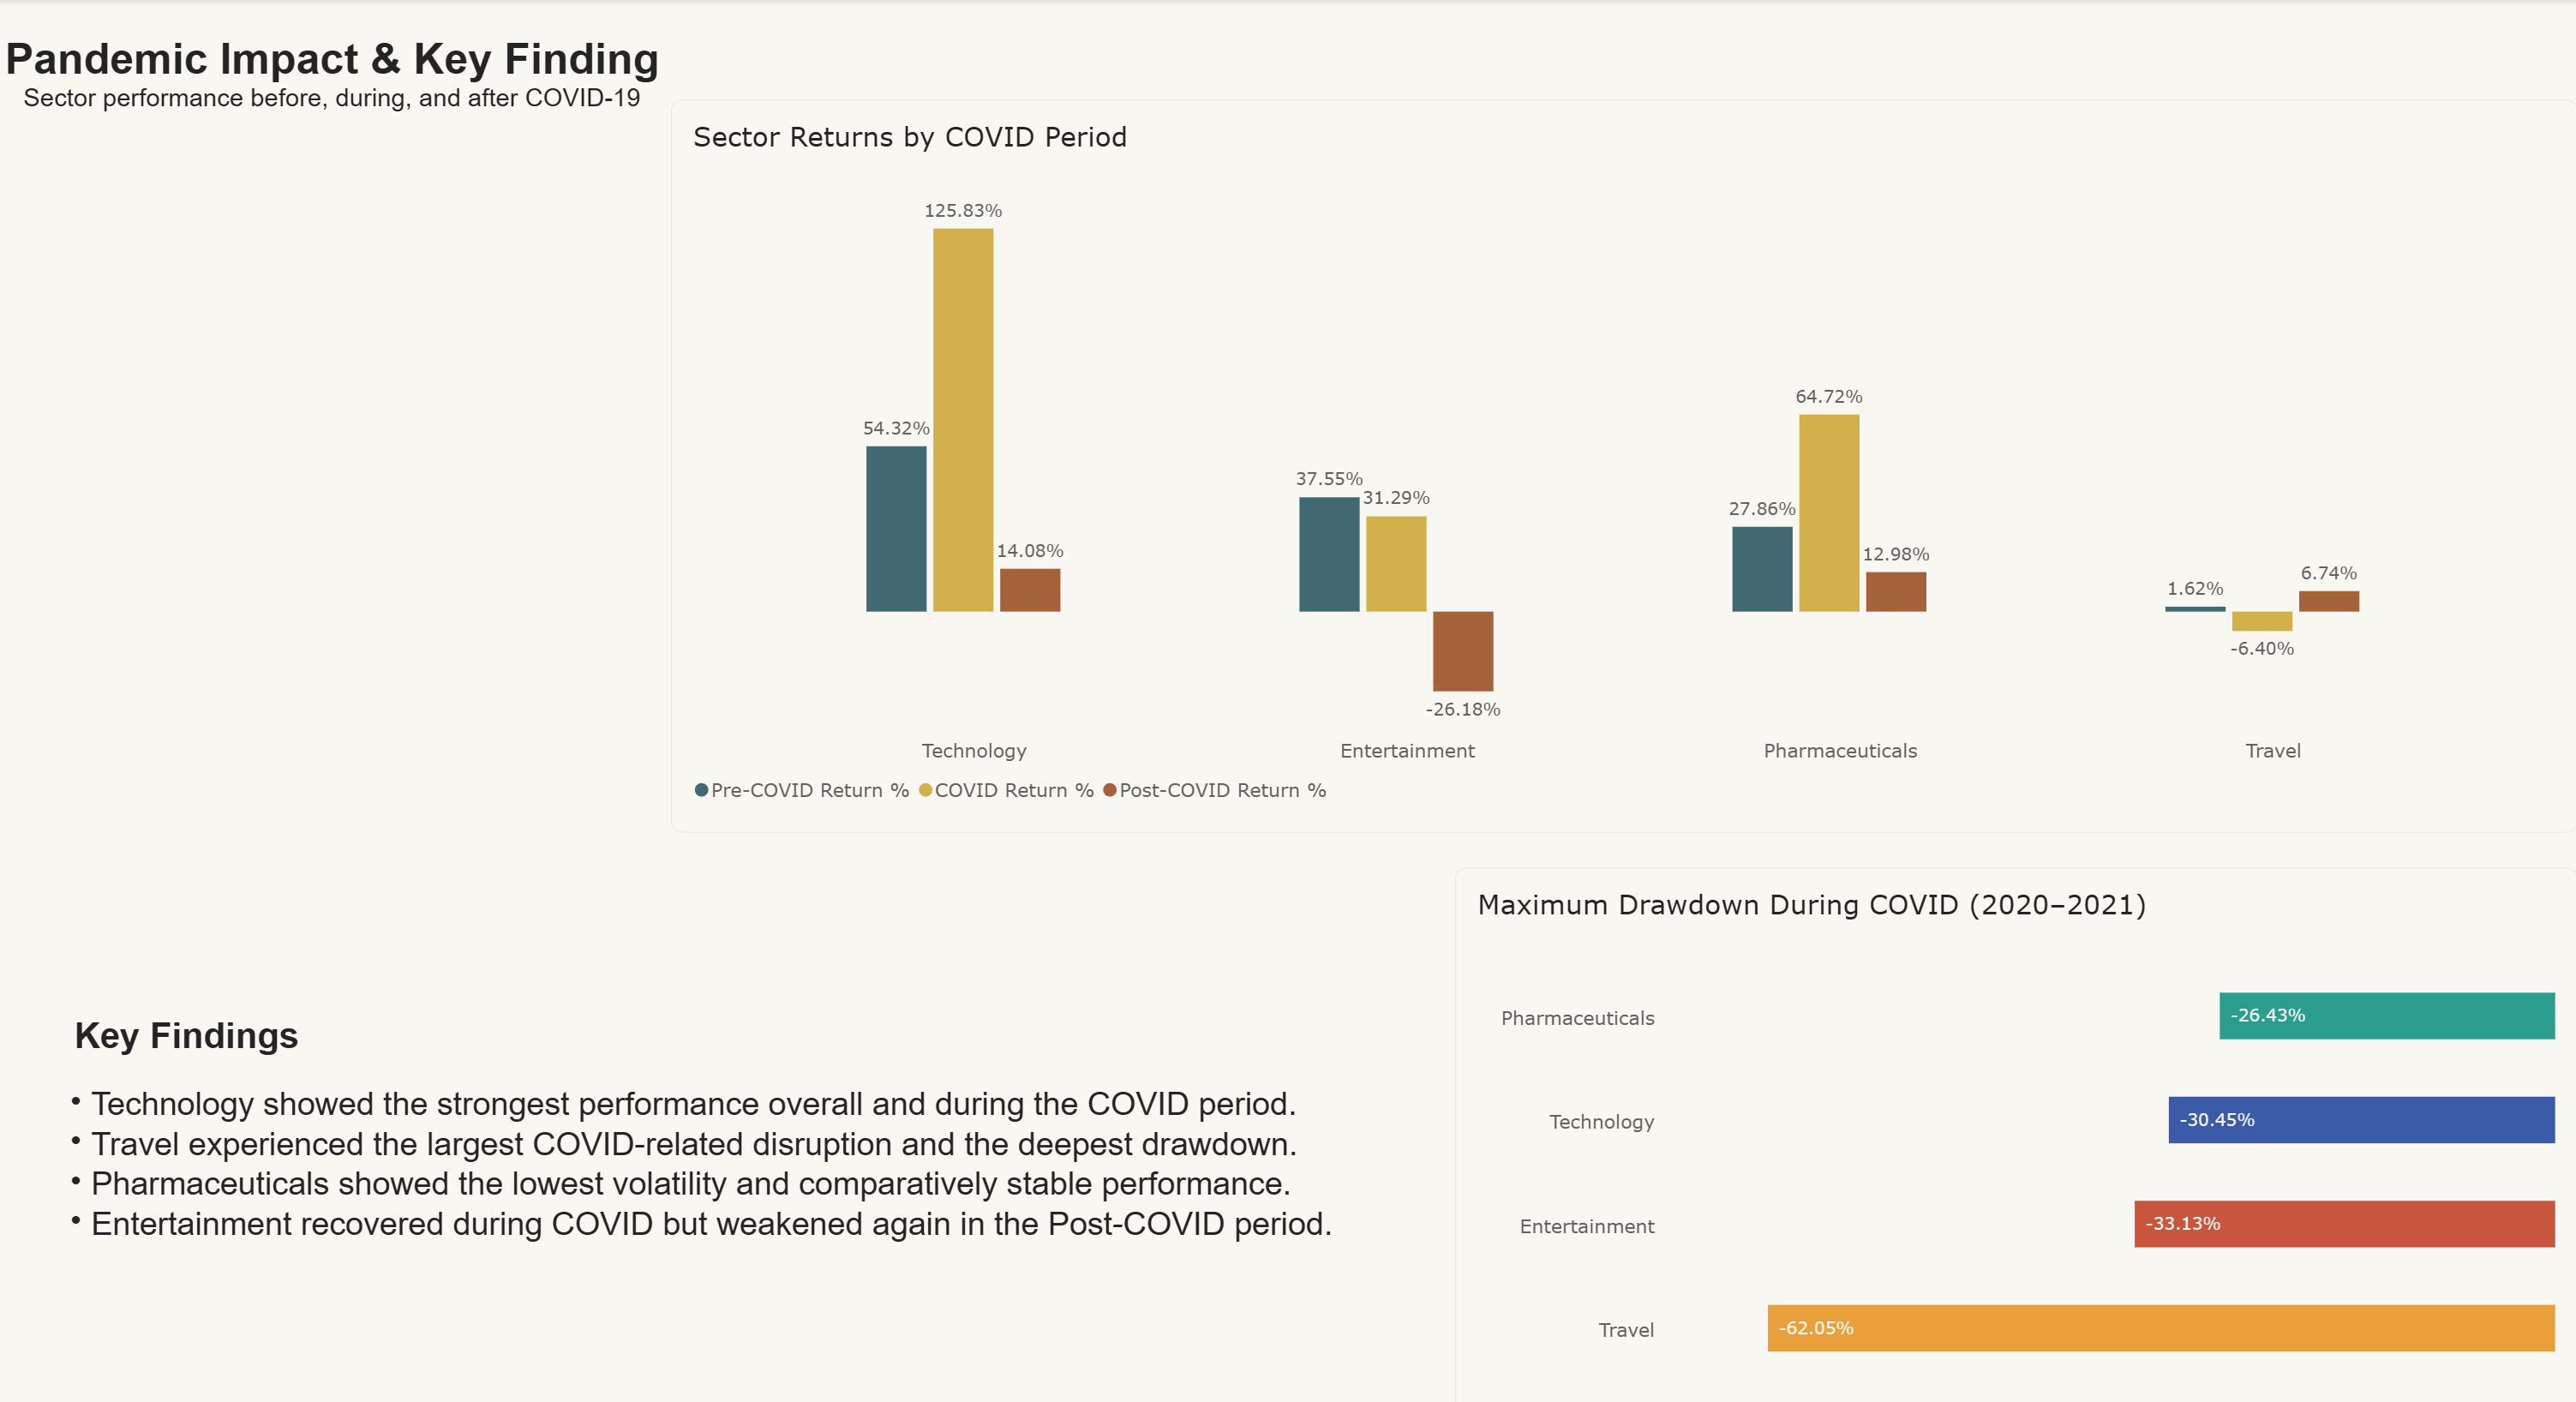

Layout of this report page (visuals, bound fields, positions):
{"tool":"powerbi","page":{"name":"Pandemic Impact & Key Findings","canvas":[1920,1080],"ordinal":2},"visuals":[{"type":"clusteredColumnChart","title":"Sector Returns by COVID Period","fields":{"Category":["dim_assets.Sector"],"Y":["_Measures.Pre-COVID Return %","_Measures.COVID Return %","_Measures.Post-COVID Return %"]},"box":[500.2,74.8,1420.2,546],"z":0},{"type":"clusteredBarChart","title":"Maximum Drawdown During COVID (2020–2021)","fields":{"Category":["dim_assets.Sector"],"Y":["_Measures.Maximum Drawdown COVID %"]},"box":[1084.2,646.5,836.3,413.1],"z":1},{"type":"textbox","box":[32.4,751.4,974.7,203.2],"z":2},{"type":"textbox","box":[0,25.7,495.7,97.1],"z":3}]}

Visuals, with their boxes on the page's 1920x1080 design canvas (x1, y1, x2, y2). These are canvas units, not pixel positions in the 2576x1402 screenshot, which may show the page scaled, cropped or inside an application window:
"Sector Returns by COVID Period" clusteredColumnChart: box(500, 75, 1920, 621)
"Maximum Drawdown During COVID (2020–2021)" clusteredBarChart: box(1084, 646, 1920, 1060)
textbox: box(32, 751, 1007, 955)
textbox: box(0, 26, 496, 123)
